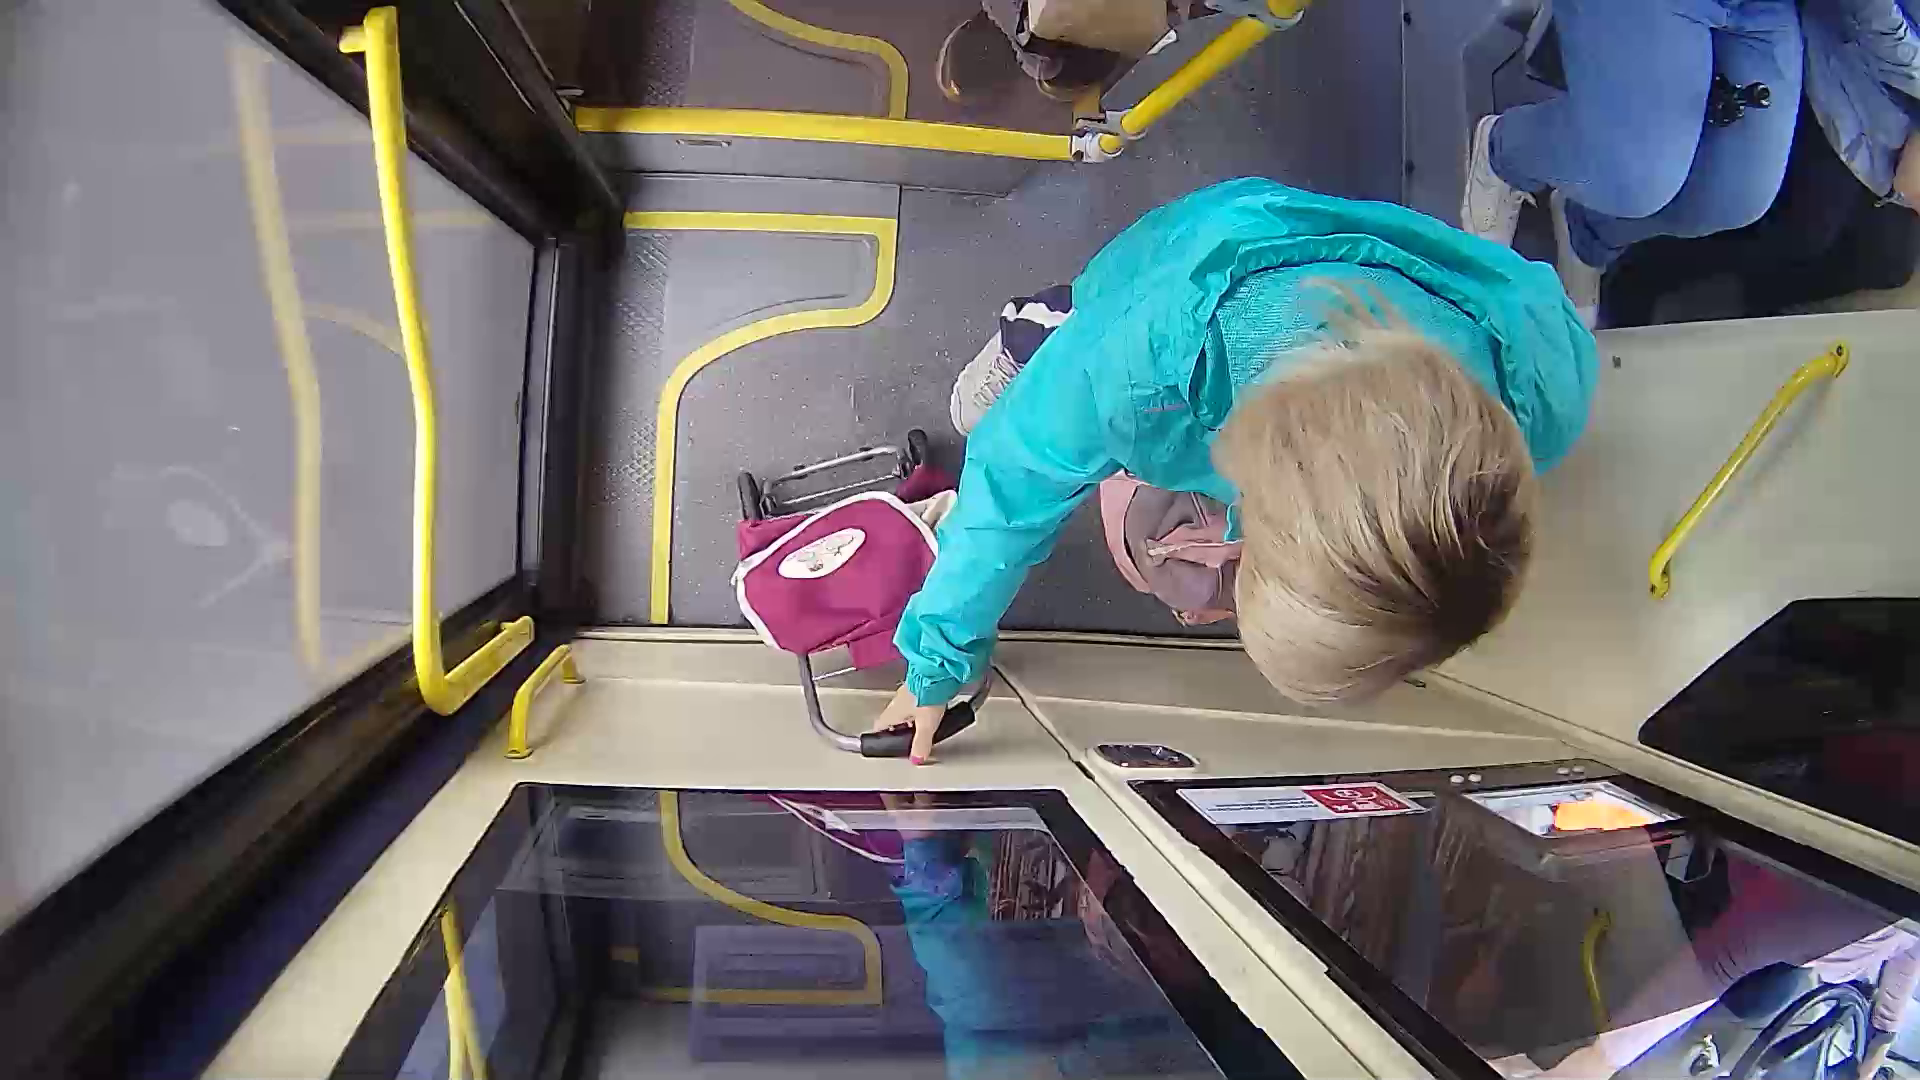person: (739, 151, 1579, 750)
